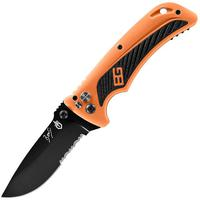knife: (1, 6, 190, 199)
